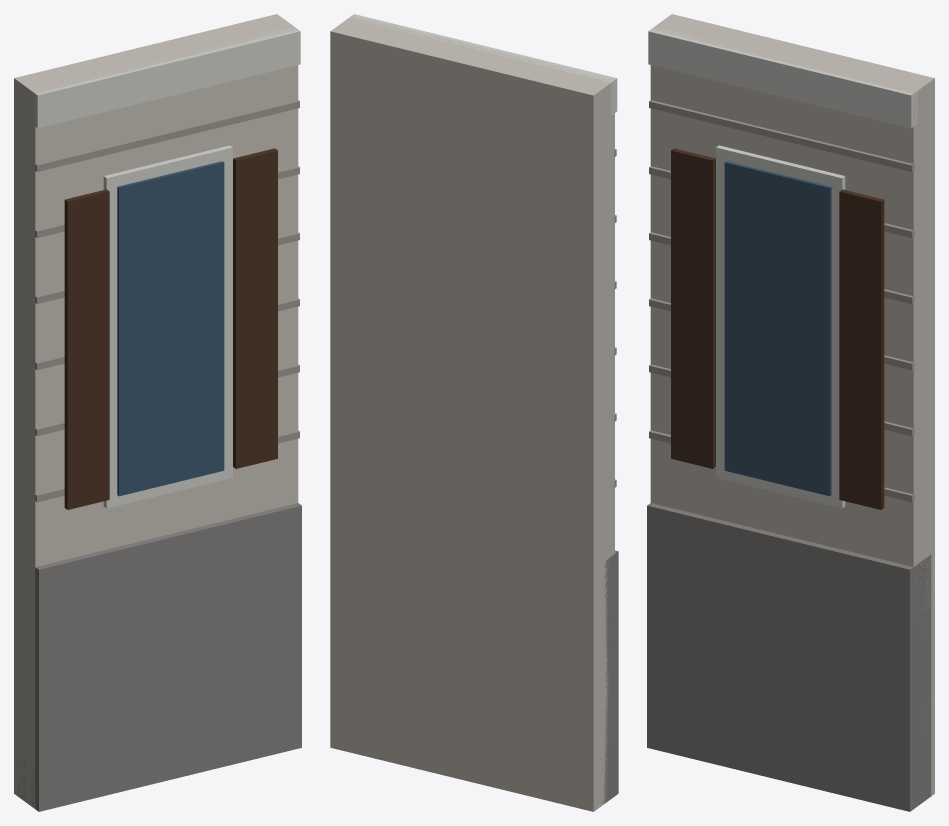
Rendered from lodge_wall_window_alt.obj.
3 views of the same model, side by side, from view 1: azimuth 30°, elevation 25°; view 2: azimuth 150°, elevation 25°; view 3: azimuth 330°, elevation 25° (orthographic).
Size of the model in its own units: 2.5 by 6.5 by 0.45.
